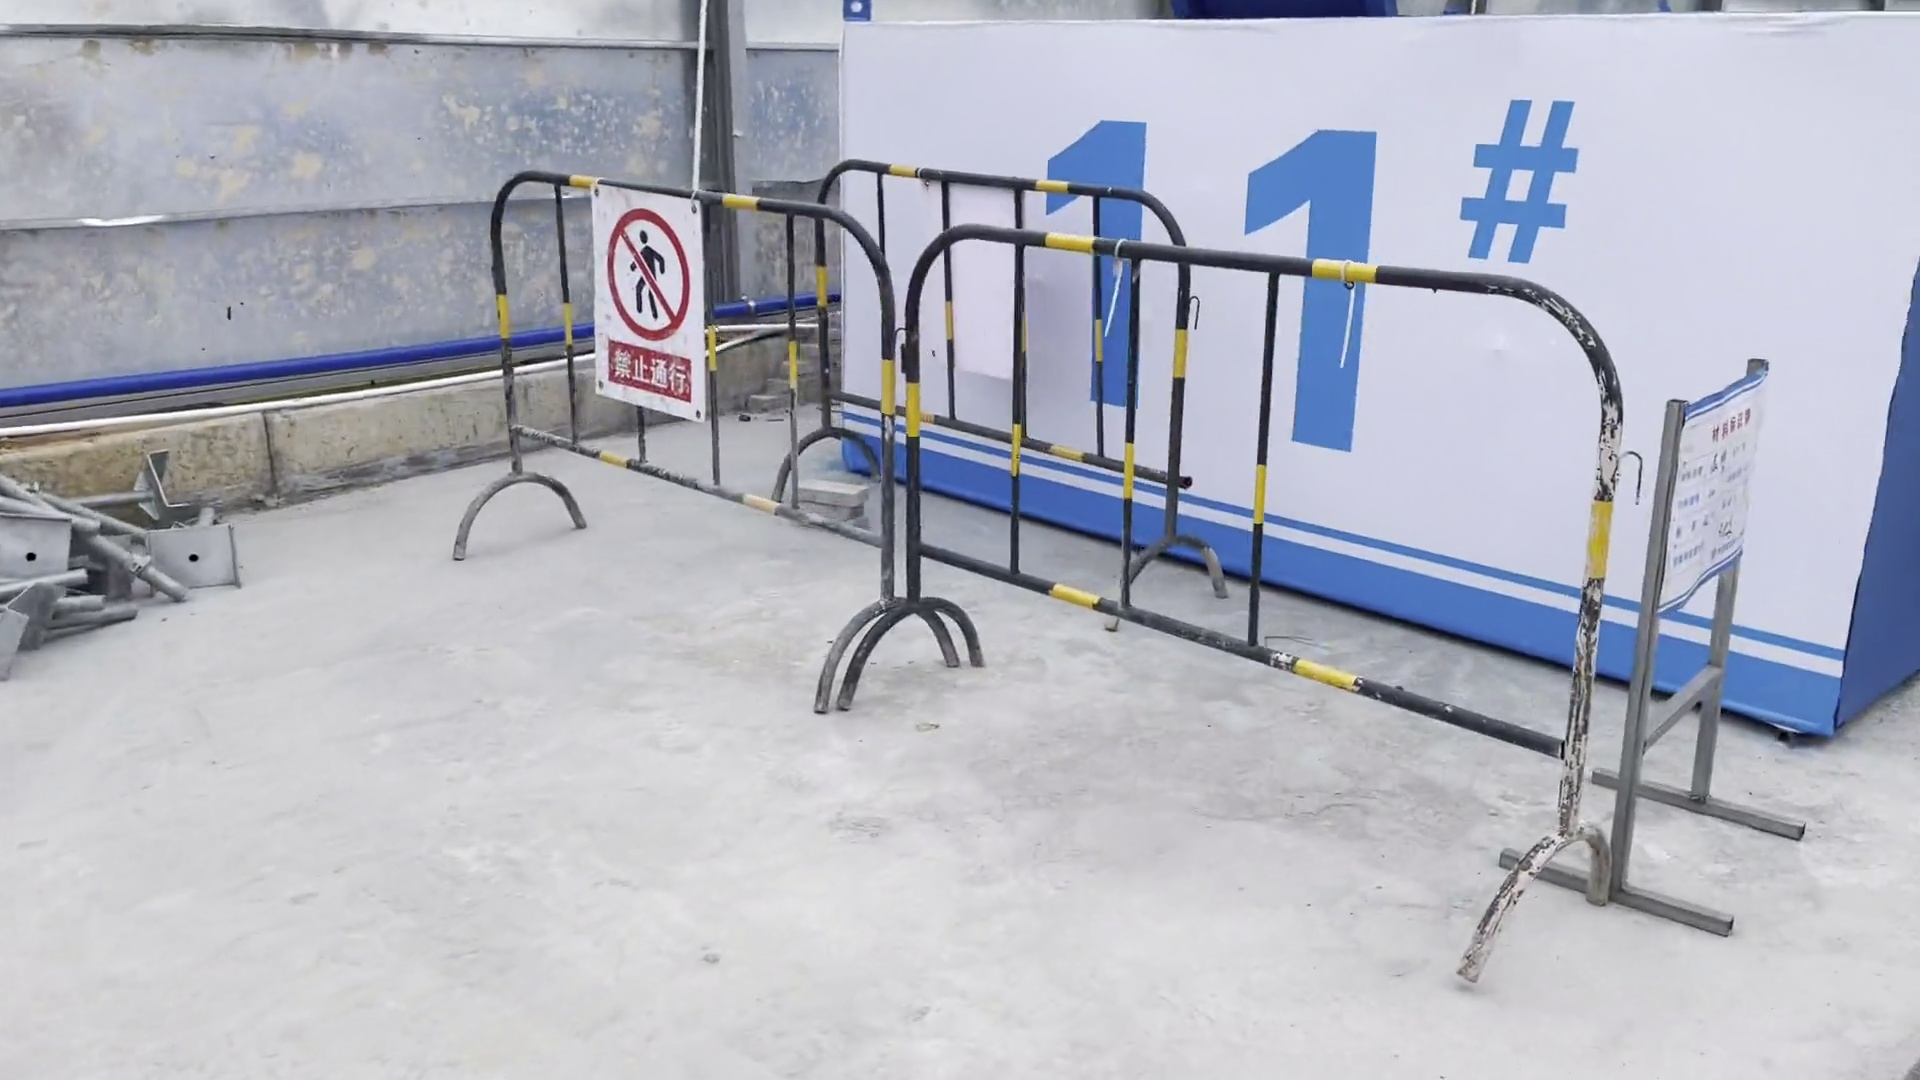fence: (450, 156, 1617, 827)
slogan: (1631, 349, 1804, 636), (568, 181, 713, 434)
